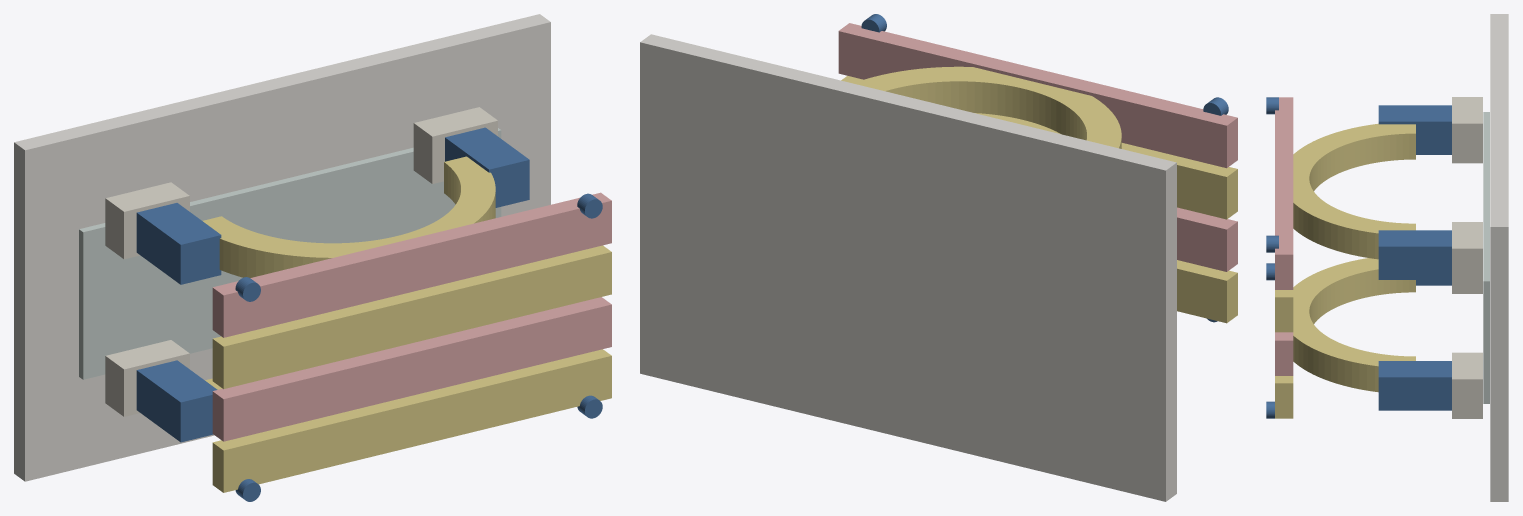
Rendered from PLAYFORM_BRIDGE_ASSEMBLED.glb.
The picture shows the model from 3 angles, left to right: view 1: azimuth 30°, elevation 25°; view 2: azimuth 150°, elevation 25°; view 3: azimuth 270°, elevation 25°; orthographic projection. The views are drawn at different scales.
Parts seen in each view (by area): view 1: stage_base, river_patch, deck_plank_1, deck_plank_2, deck_plank_3, deck_plank_0, arch_0.64, pillar_-1.29_0.63, pillar_-1.29_-0.63, pillar_1.29_0.63, footing_-1.29_-0.63, footing_-1.29_0.63 (+1 smaller); view 2: stage_base, deck_plank_3, arch_0.64, deck_plank_2, deck_plank_1, deck_plank_0; view 3: stage_base, arch_0.64, arch_-0.64, pillar_1.29_-0.63, pillar_1.29_0.63, deck_plank_3, pillar_-1.29_0.63, footing_-1.29_0.63, footing_1.29_-0.63, footing_1.29_0.63, river_patch, deck_plank_1 (+2 smaller).
Part boxes in pixels (<box>): stage_base: <box>14,14,550,481</box>; river_patch: <box>79,128,501,379</box>; deck_plank_1: <box>212,297,611,441</box>; deck_plank_2: <box>212,245,611,389</box>; deck_plank_3: <box>212,192,611,337</box>; deck_plank_0: <box>212,349,611,492</box>; arch_0.64: <box>203,156,495,277</box>; pillar_-1.29_0.63: <box>136,203,221,284</box>; pillar_-1.29_-0.63: <box>136,360,217,442</box>; pillar_1.29_0.63: <box>445,127,529,207</box>; footing_-1.29_-0.63: <box>105,340,189,416</box>; footing_-1.29_0.63: <box>105,182,189,259</box>; stage_base: <box>640,34,1176,501</box>; deck_plank_3: <box>838,23,1237,168</box>; arch_0.64: <box>853,66,1121,148</box>; deck_plank_2: <box>841,76,1237,219</box>; deck_plank_1: <box>1177,207,1237,271</box>; deck_plank_0: <box>1177,260,1237,323</box>; stage_base: <box>1490,14,1508,501</box>; arch_0.64: <box>1293,123,1415,259</box>; arch_-0.64: <box>1293,258,1415,392</box>; pillar_1.29_-0.63: <box>1378,361,1451,410</box>; pillar_1.29_0.63: <box>1378,230,1451,279</box>; deck_plank_3: <box>1275,97,1293,289</box>; pillar_-1.29_0.63: <box>1378,105,1451,154</box>; footing_-1.29_0.63: <box>1452,97,1482,163</box>; footing_1.29_-0.63: <box>1452,352,1482,418</box>; footing_1.29_0.63: <box>1452,222,1482,287</box>; river_patch: <box>1483,112,1489,403</box>; deck_plank_1: <box>1275,332,1293,375</box>.
Bounding box in the file's own units: 4.4 × 2.65 × 2.12.
